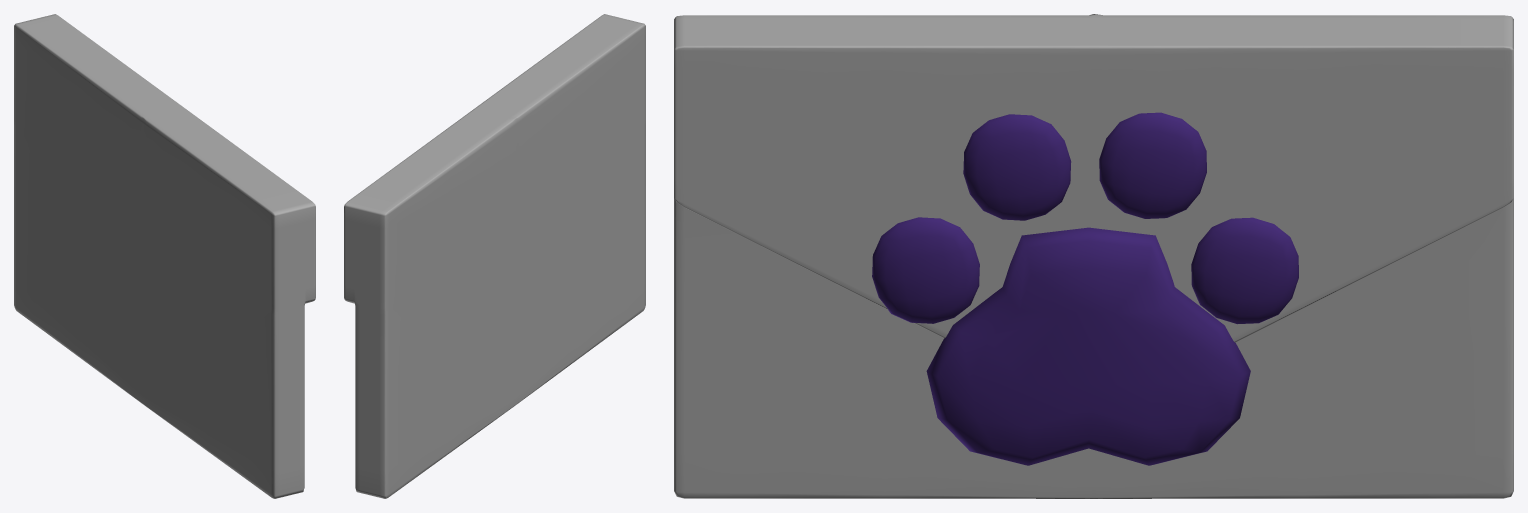
The model's file is PowerUp_patita.fbx.
3 views of the same model, side by side, from view 1: azimuth 30°, elevation 25°; view 2: azimuth 150°, elevation 25°; view 3: azimuth 270°, elevation 25° (orthographic). The views are drawn at different scales.
Visible parts, largest first — view 1: pCube1; view 2: pCube1; view 3: pCube1, pCube3, pCube4, pCube5, pCube7, pCube6.
Part boxes in pixels (x1,y1,x2,y2): pCube1: (14,14,315,498); pCube1: (344,14,645,498); pCube1: (674,14,1513,498); pCube3: (926,227,1250,465); pCube4: (872,217,979,323); pCube5: (963,114,1071,220); pCube7: (1191,217,1298,324); pCube6: (1099,112,1206,218).
Size of the model in its own units: 0.3257 by 1.45 by 2.39.
